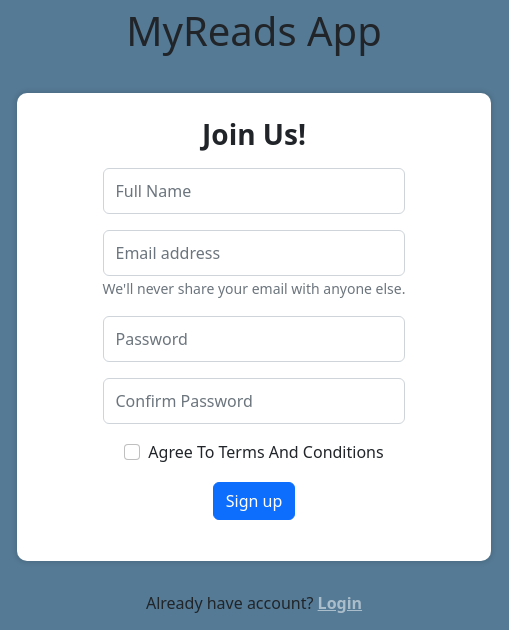
Test Sign up Page › Check the redirect of user to login page
What coordinates should you click on to do the following:
click the link "Login"
I would click on:
 (340, 603)
Its box is [318,592,362,614].
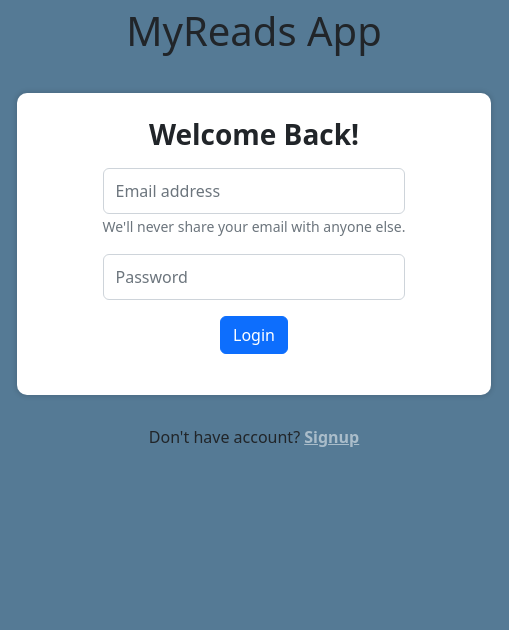
Result: the heading "Welcome Back!" is shown at [149,118,359,152]
